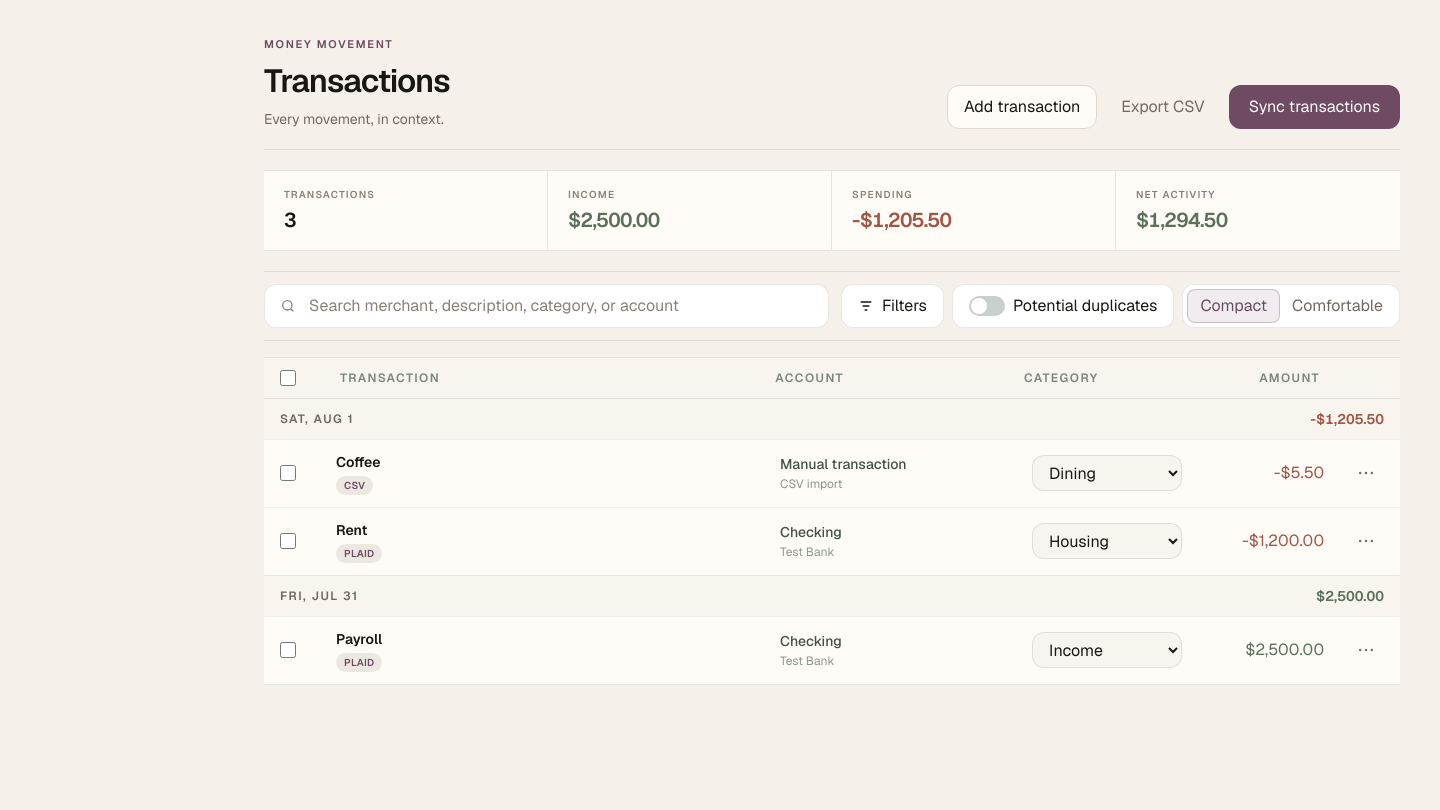
Test case: TransactionsPage bulk workflows › restores optimistic bulk deletion when Undo is clicked
Click the checkbox named "Select Coffee" at (288, 473), box [280,465,296,481]
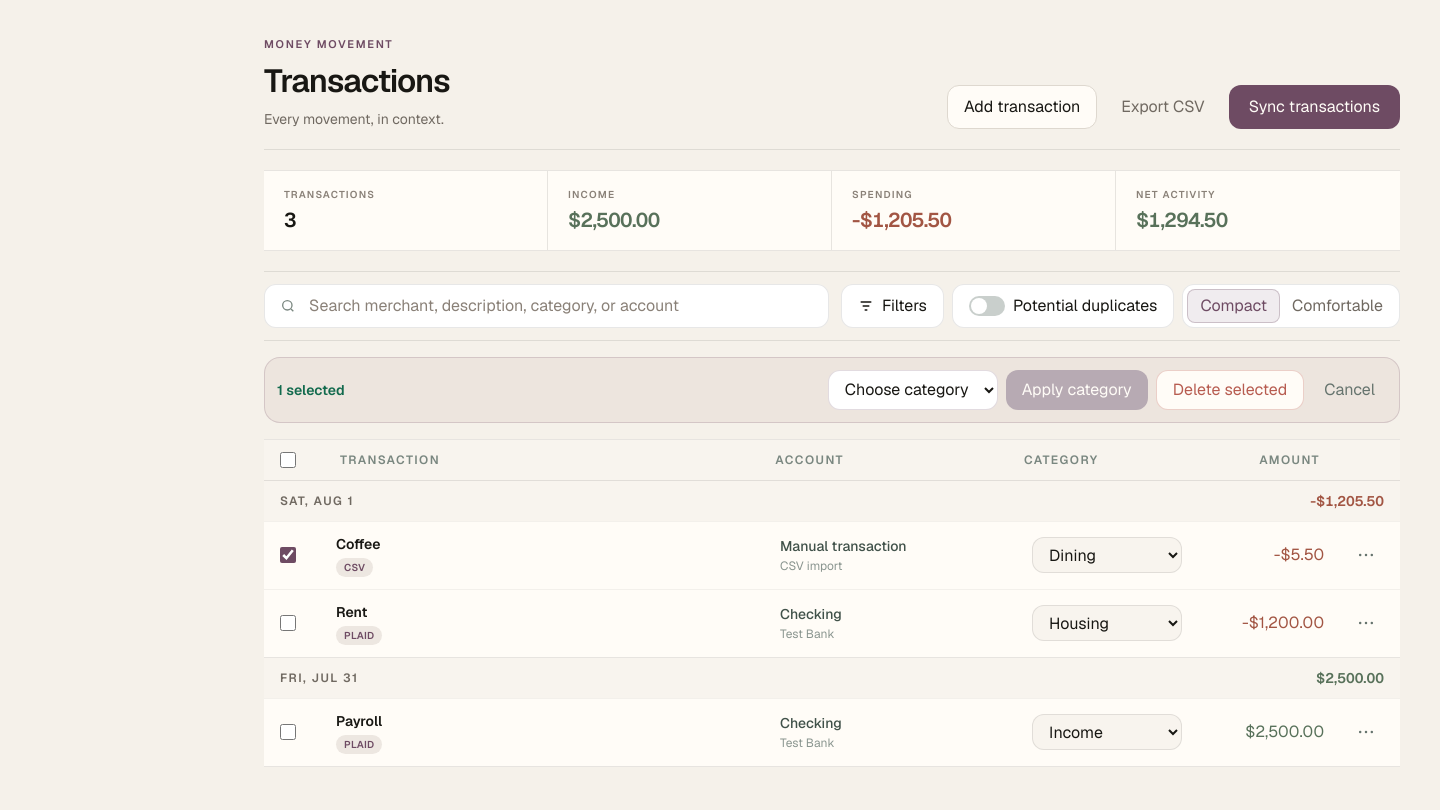
Click the checkbox named "Select Rent" at (288, 623), box [280,615,296,631]
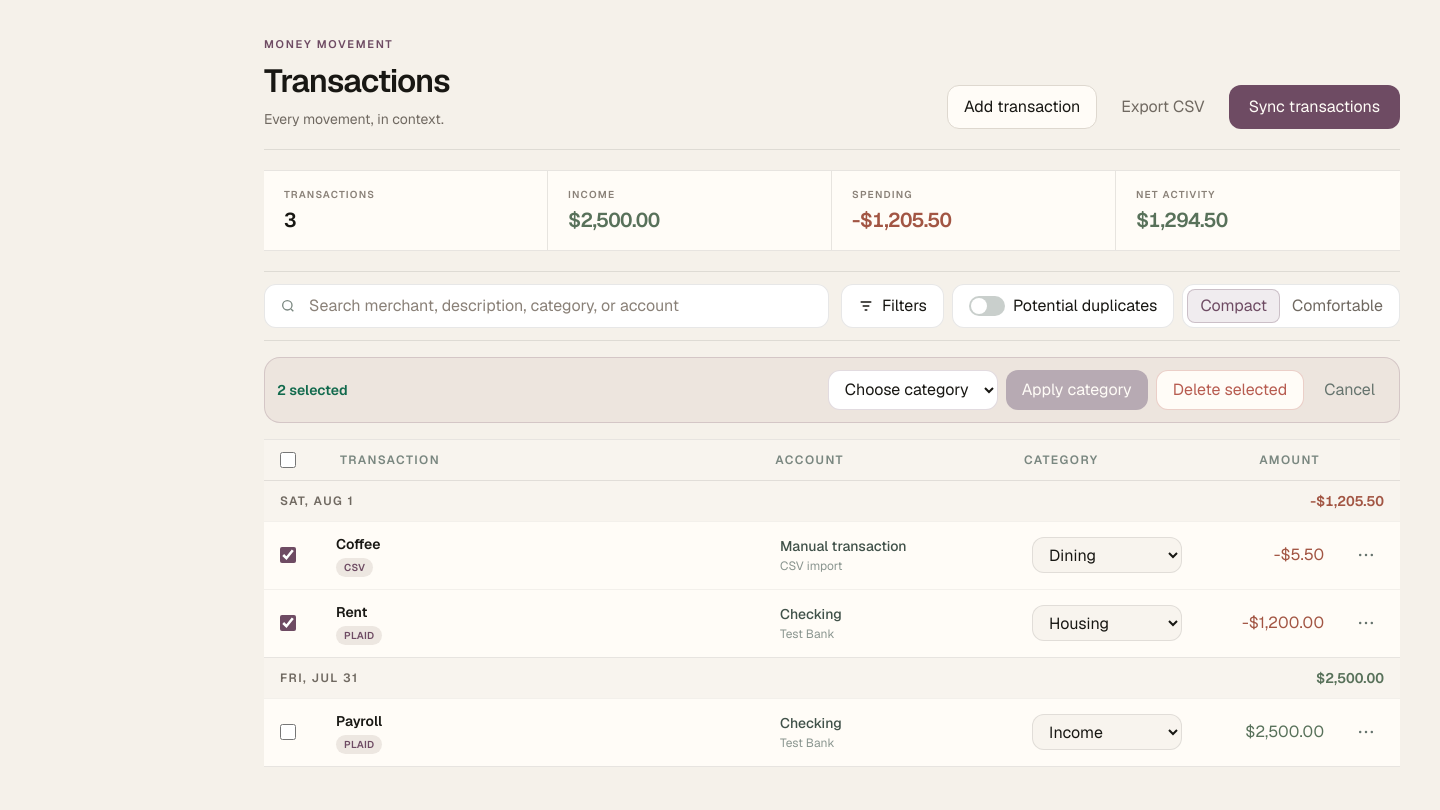
Click the button "Delete selected" at (1230, 390), box [1156,370,1304,410]
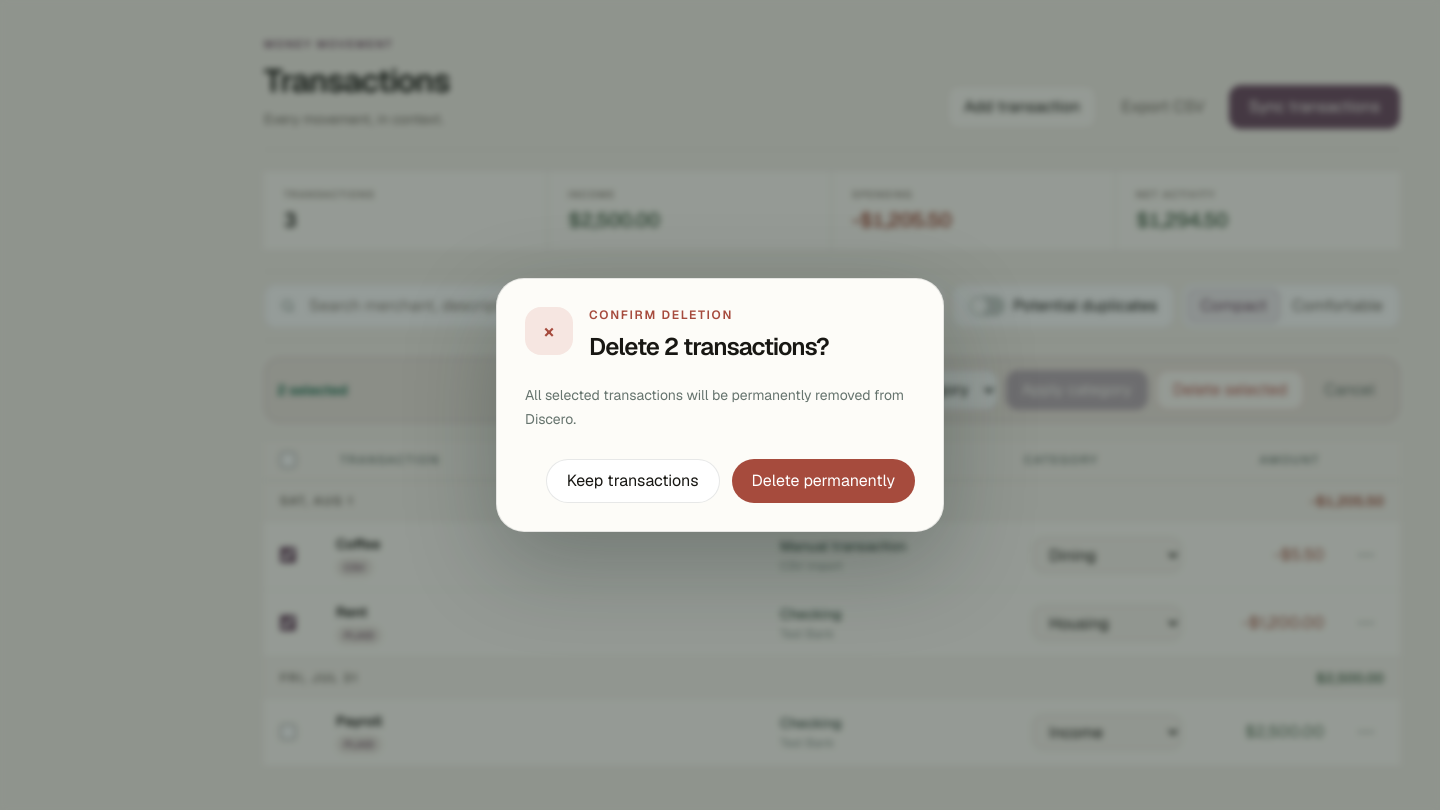
Click the button "Delete permanently" at (823, 481), box [732,459,915,503]
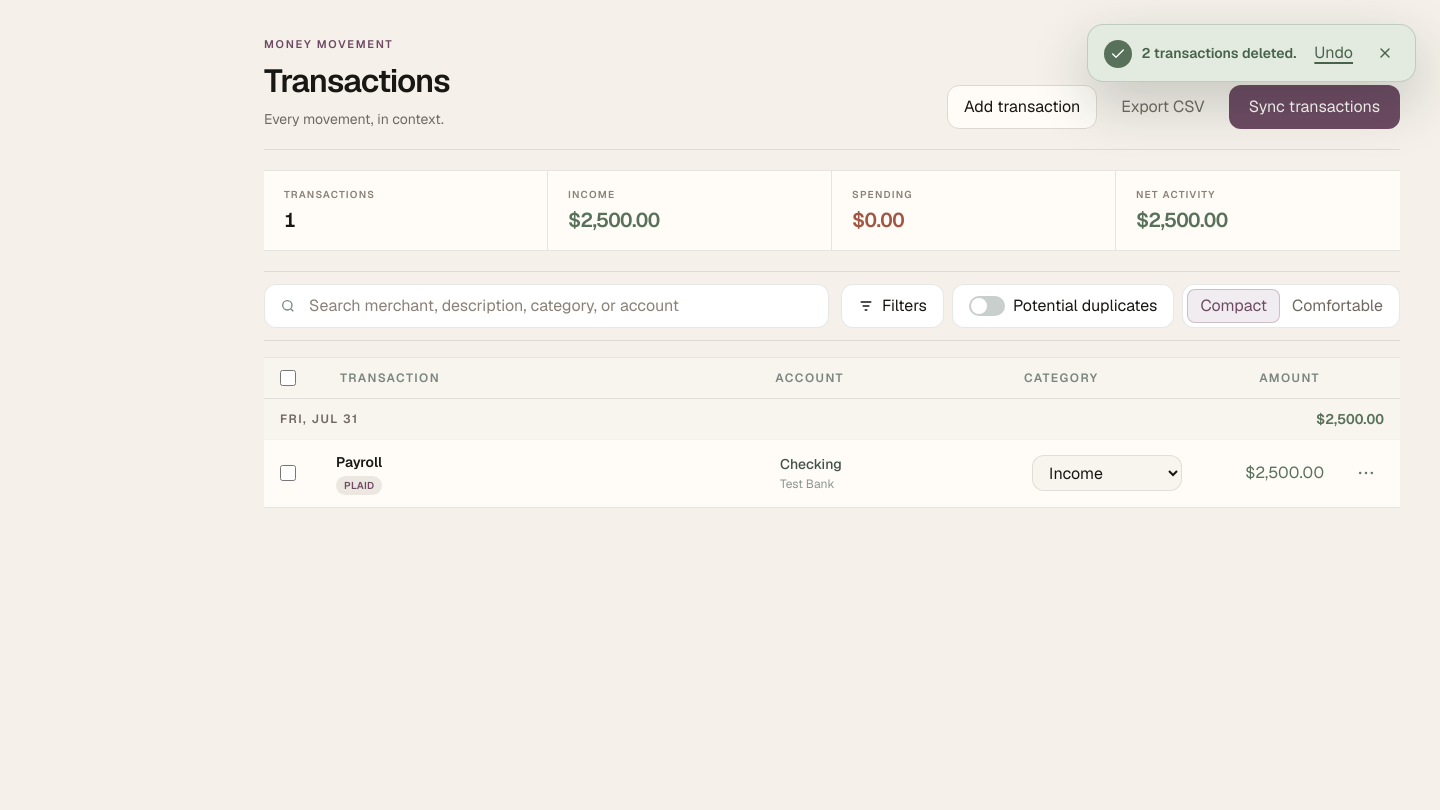
Click the button "Undo" at (1334, 53), box [1306,37,1361,69]
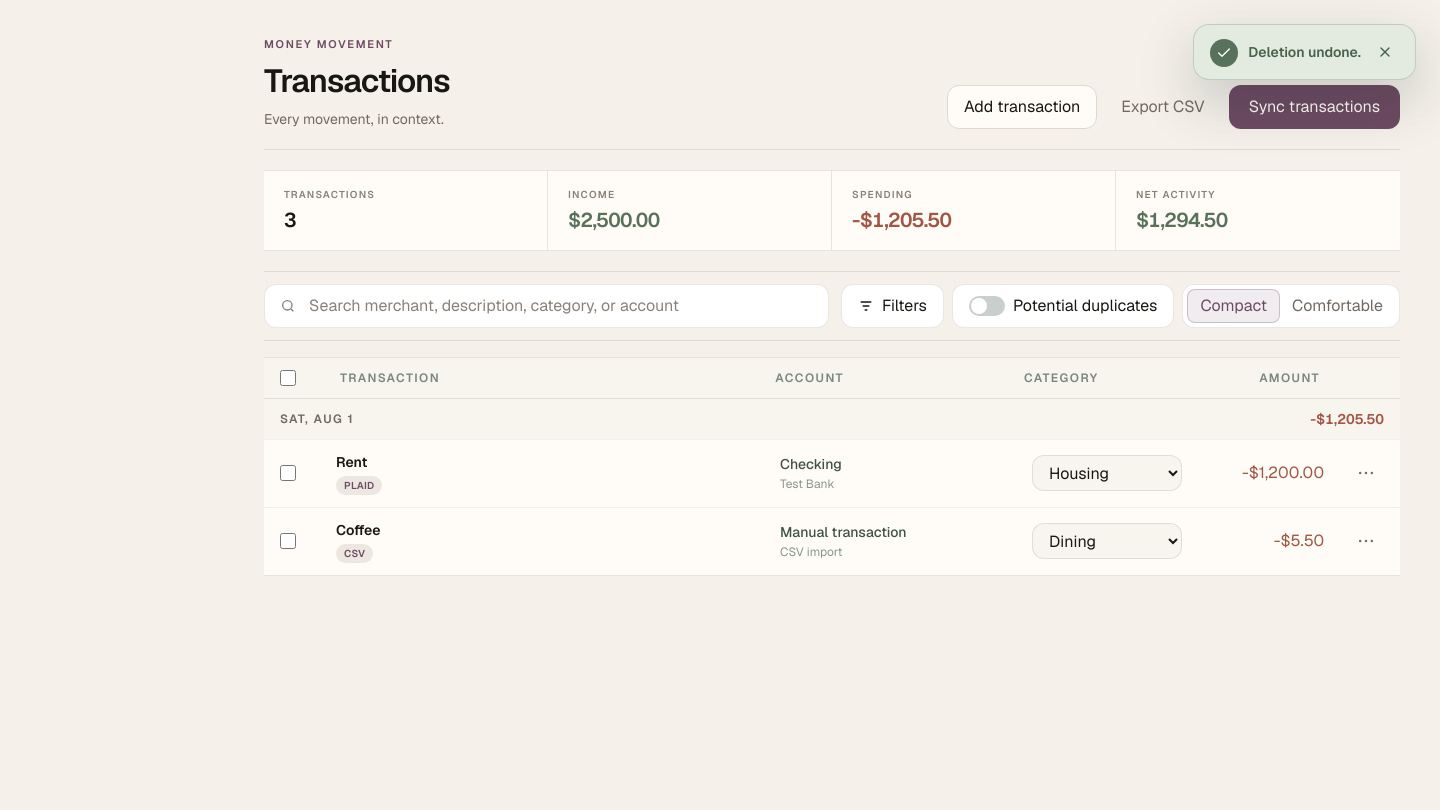
Check: the checkbox named "Select Rent" is shown, box [280,465,296,481]
Check: the checkbox named "Select Coffee" is shown, box [280,533,296,549]
